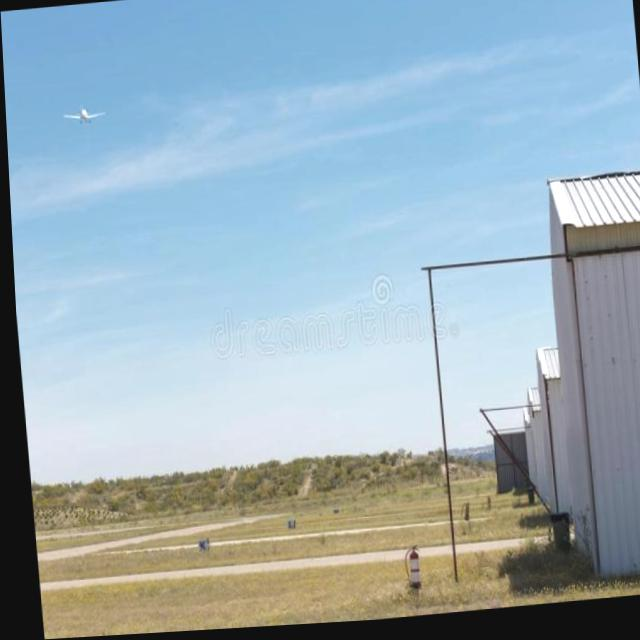FireExtinguisher: (395, 544, 418, 598), (453, 504, 466, 528)
